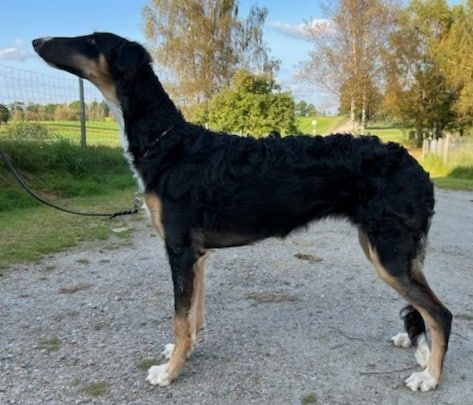borzoi: (29, 29, 458, 396)
